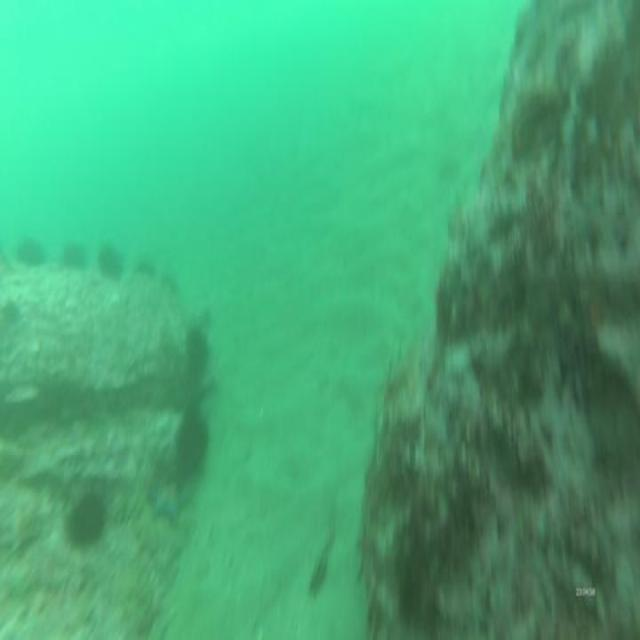echinus: (67, 486, 105, 546), (176, 405, 209, 474), (184, 324, 209, 373), (62, 238, 86, 274), (17, 238, 44, 268), (100, 245, 122, 281)
